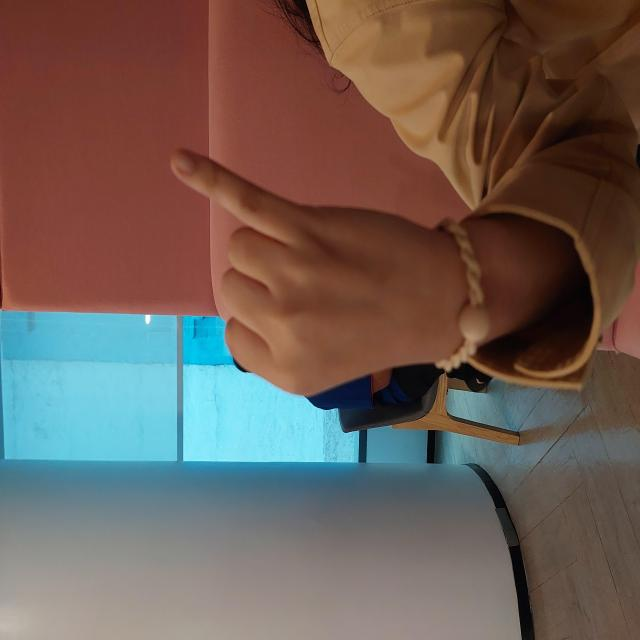J: (236, 165, 500, 462)
